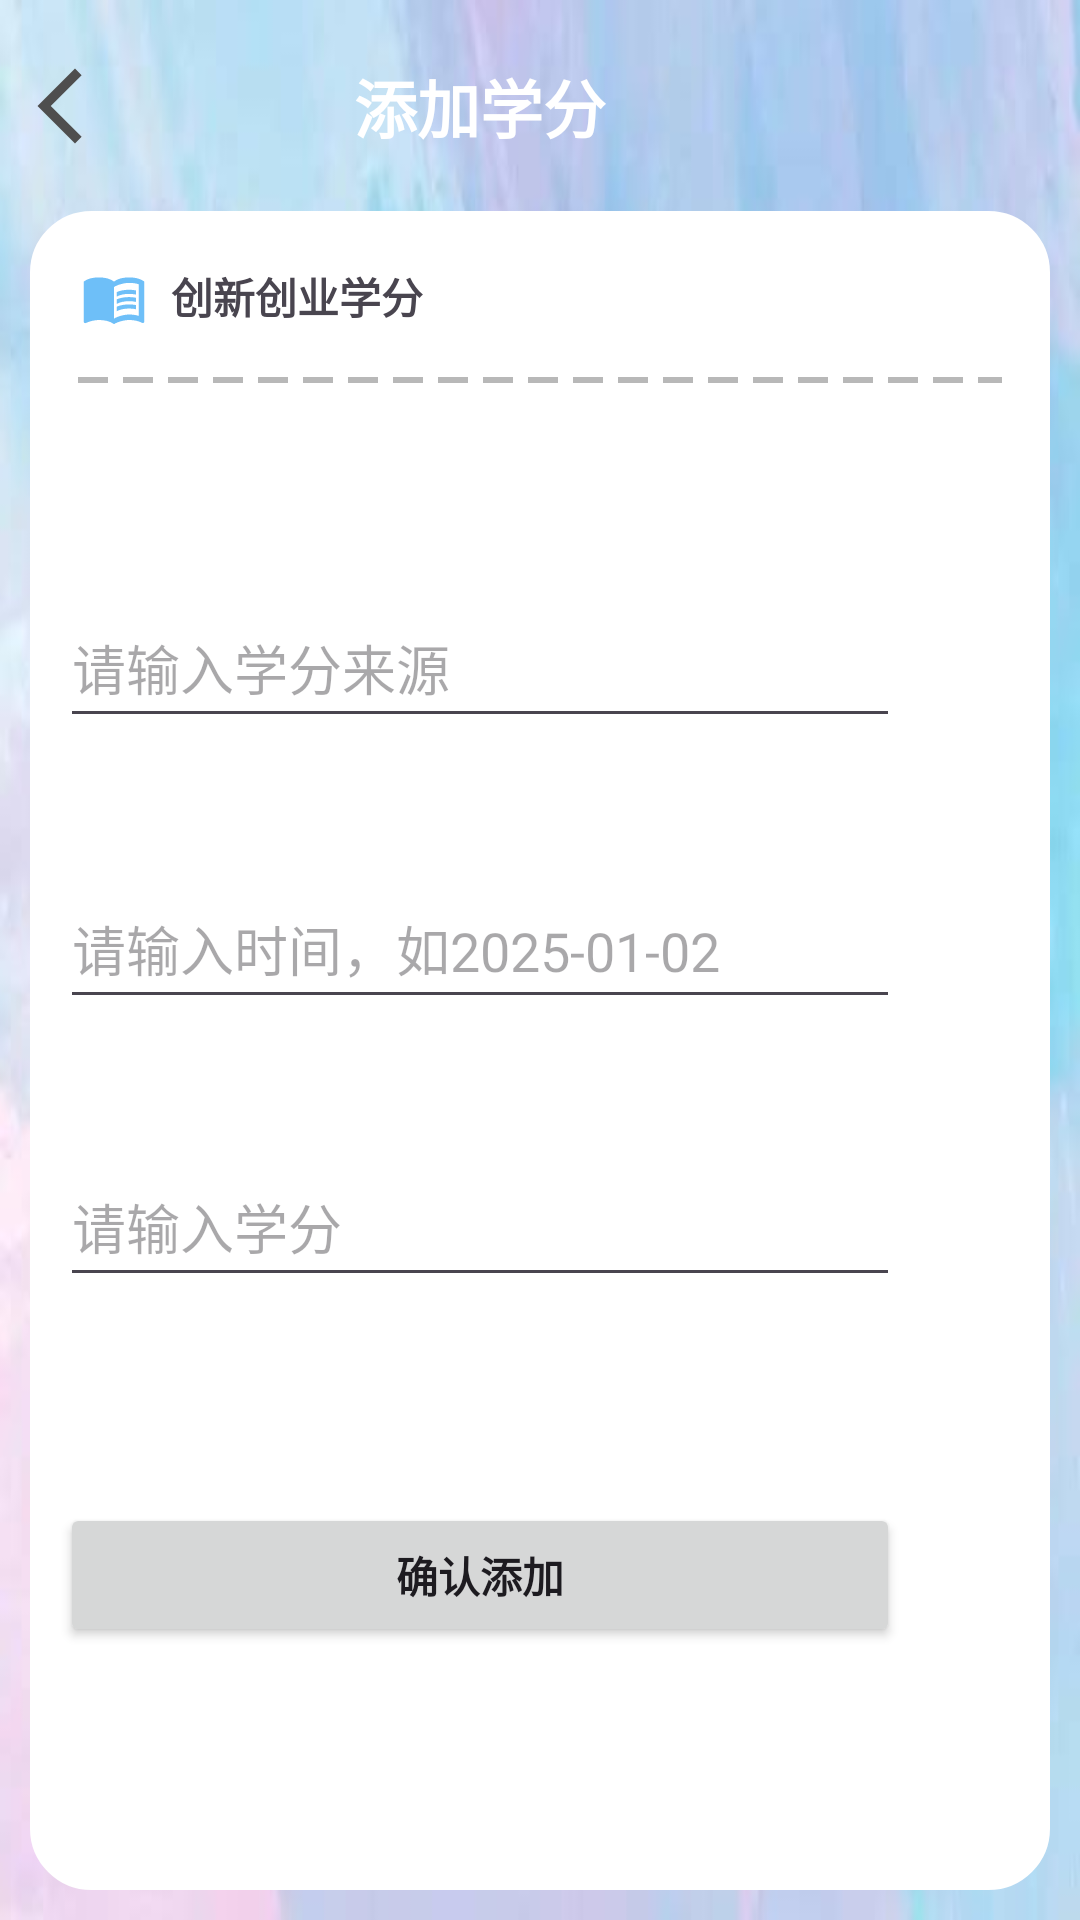

Icons on this 1080 × 1920 Android screen, each with the point to tap as (x,y):
back darker: (60,106)
